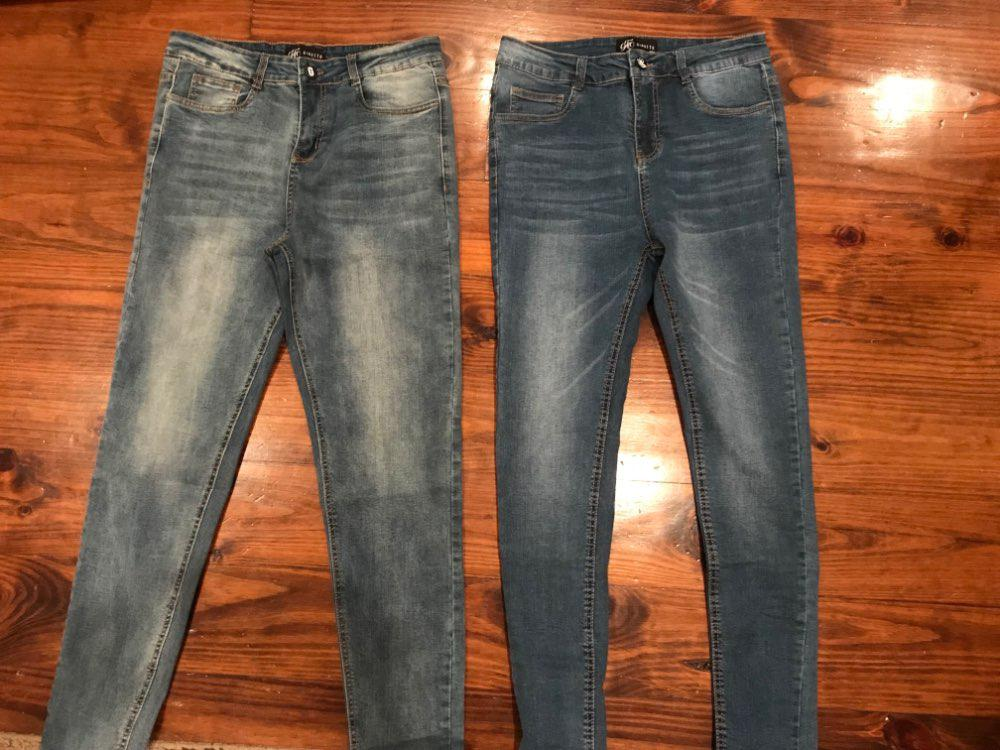jeans: (84, 30, 448, 750), (494, 30, 819, 750)
